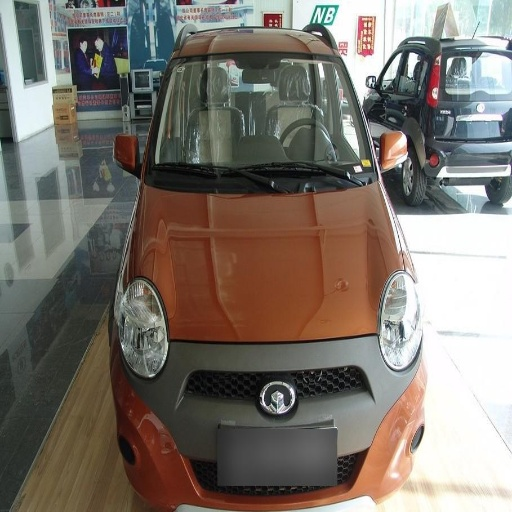front_bumper: (117, 335, 420, 511)
front_right_light: (117, 292, 169, 376)
hood: (141, 183, 400, 338)
